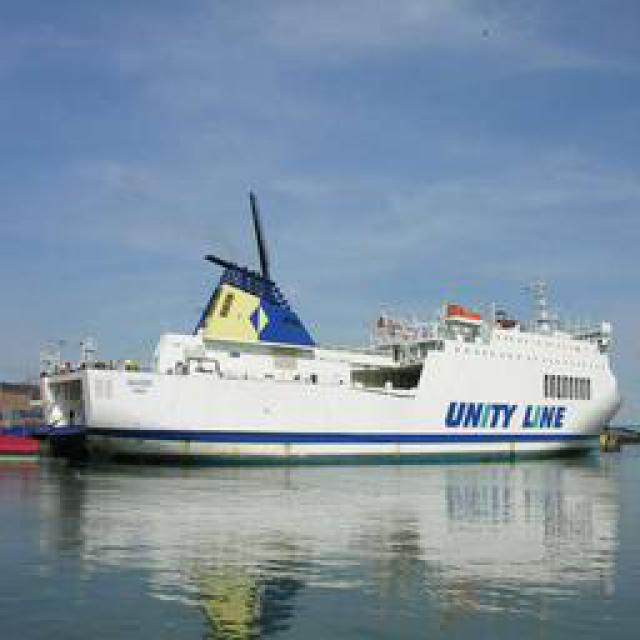Ship: (31, 194, 629, 454)
